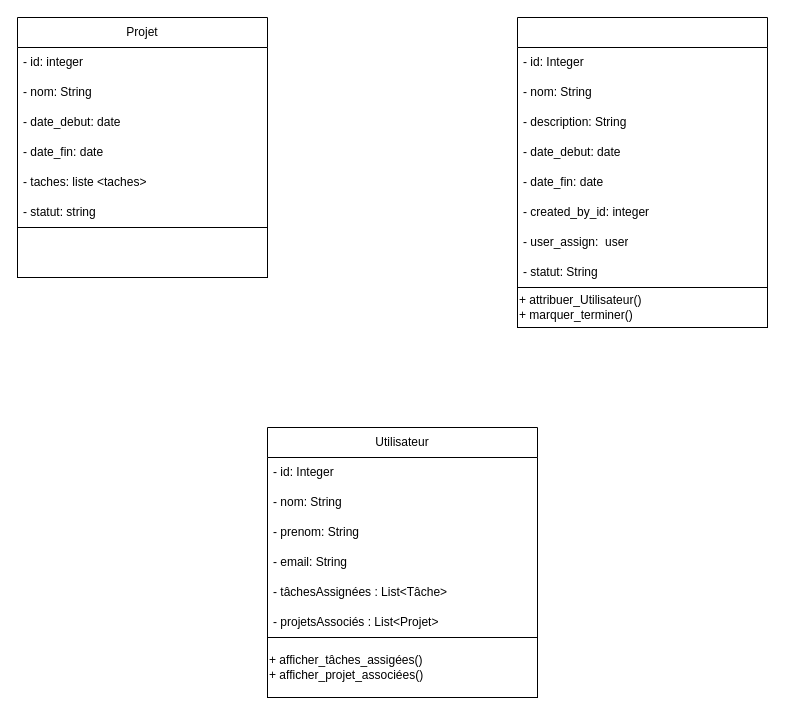
This 785x715 diagram has some shape labels left out. Here are the shapes that lost their labels. From the top down, the box of each, then its label:
(516, 16, 768, 328): Tâches
(16, 226, 268, 278): + ajouter_Tache() + supprimer_Tache()
